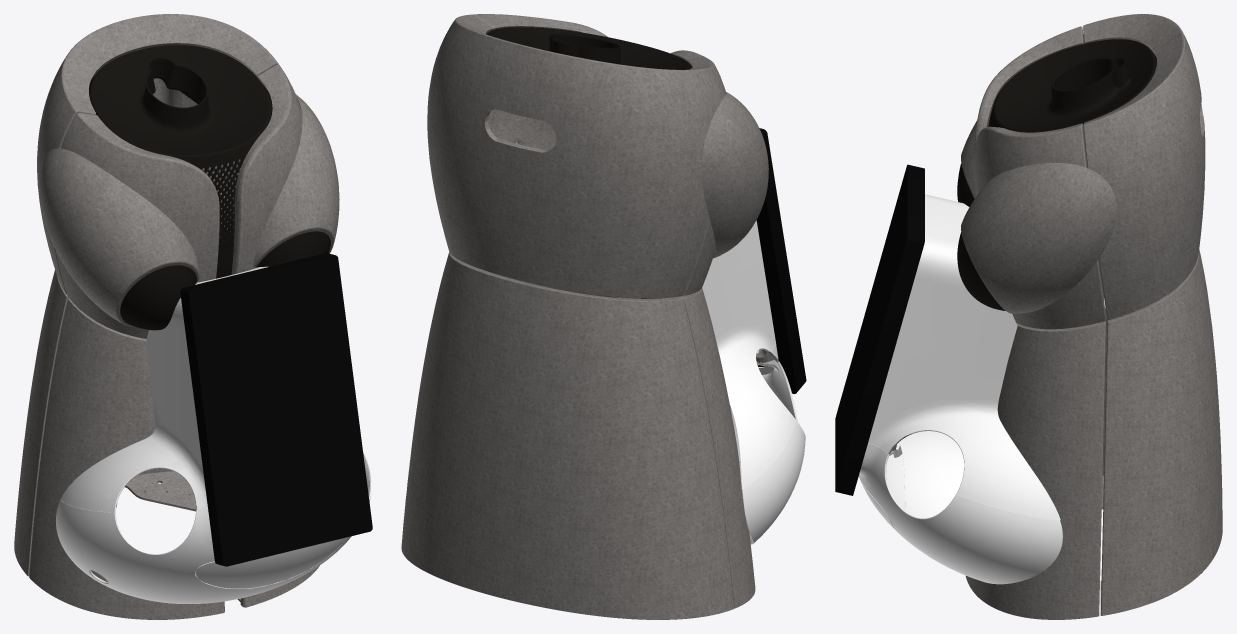
File: body.obj
3 renders of one model, left to right at view 1: azimuth 30°, elevation 25°; view 2: azimuth 150°, elevation 25°; view 3: azimuth 270°, elevation 25°, orthographic. The views are drawn at different scales.
Parts seen in each view (by area): view 1: body; view 2: body; view 3: body.
Boxes of the visible parts, box(x1,y1,x2,y2) form: body: box(14, 14, 372, 619); body: box(401, 14, 806, 619); body: box(835, 14, 1222, 619).
Bounding box in the file's own units: 0.4336 × 0.7549 × 0.5069.
4 materials, 1 textured.
